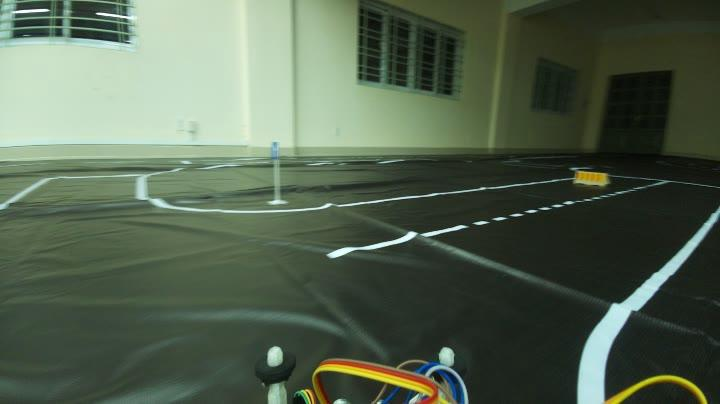onewayroad: (267, 140, 279, 160)
